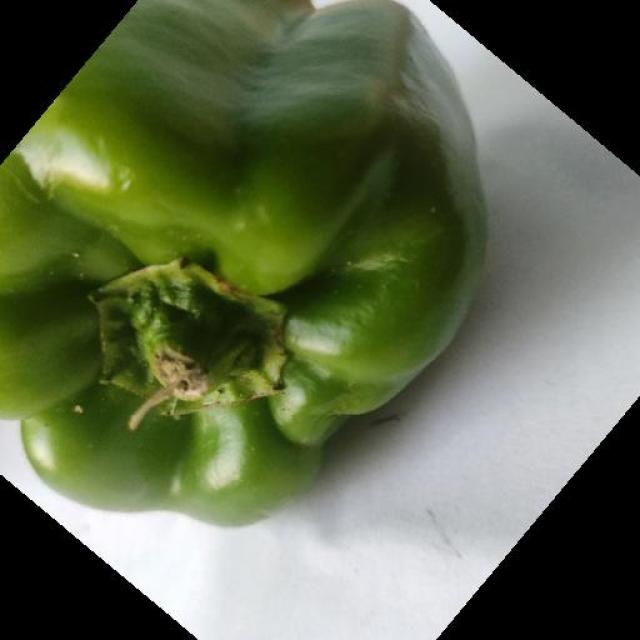Fresh_Capsicum: (114, 3, 408, 473)
